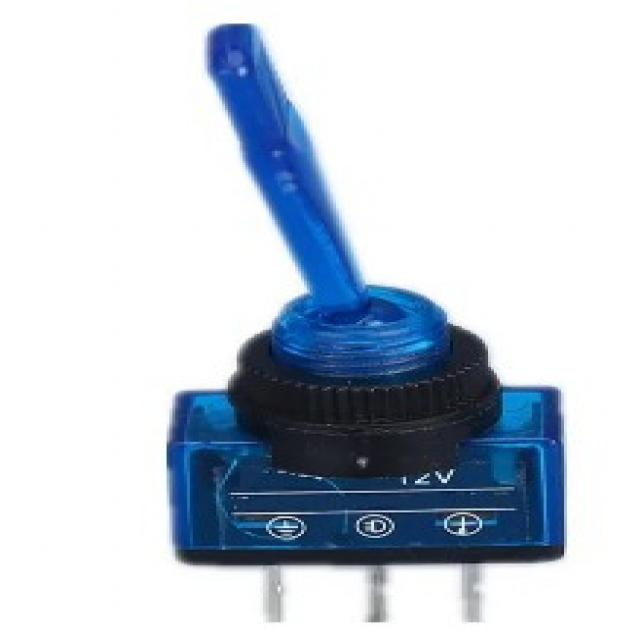toggle switch: (207, 21, 507, 433)
